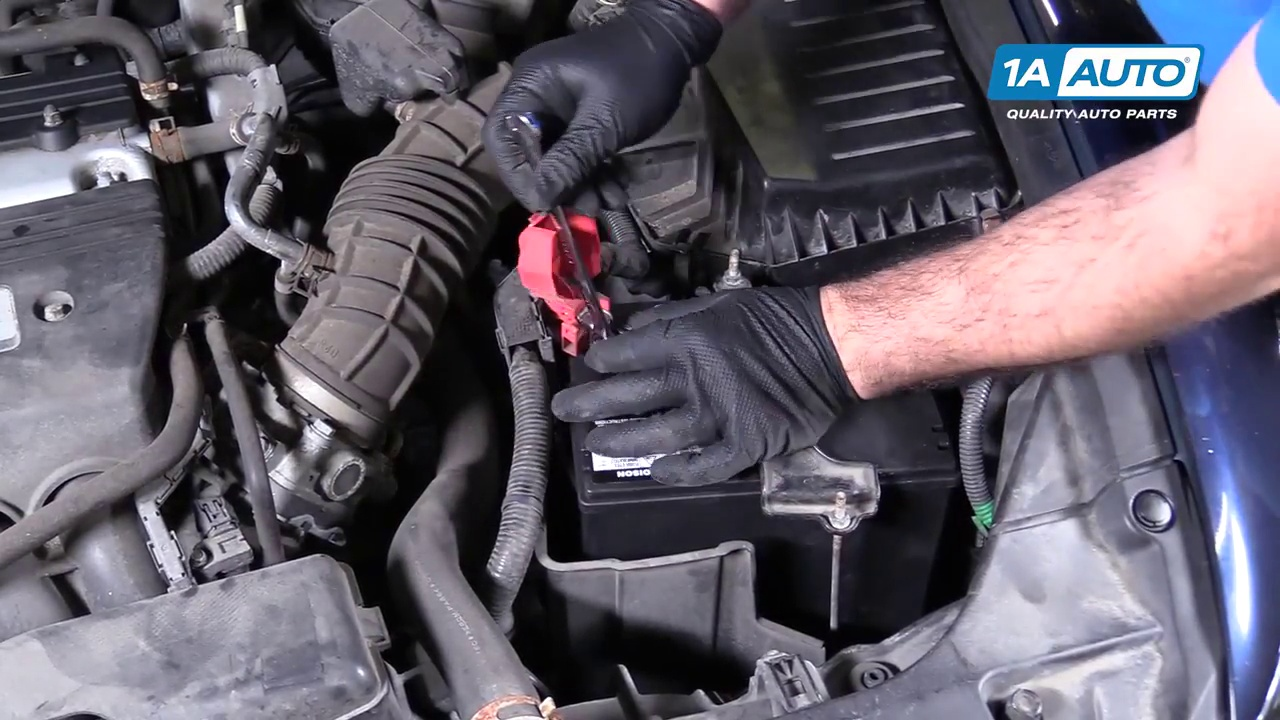battery: (543, 313, 968, 516)
pos_touched: (519, 174, 680, 417)
